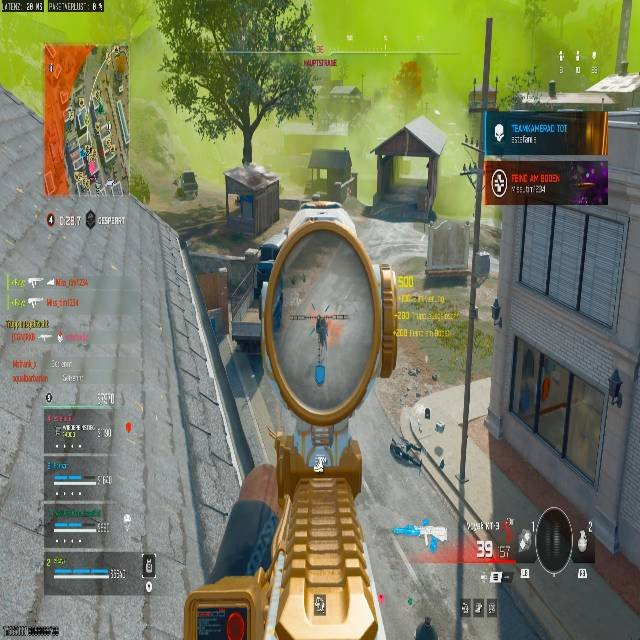head: (223, 161, 282, 226)
player: (315, 318, 327, 356)
